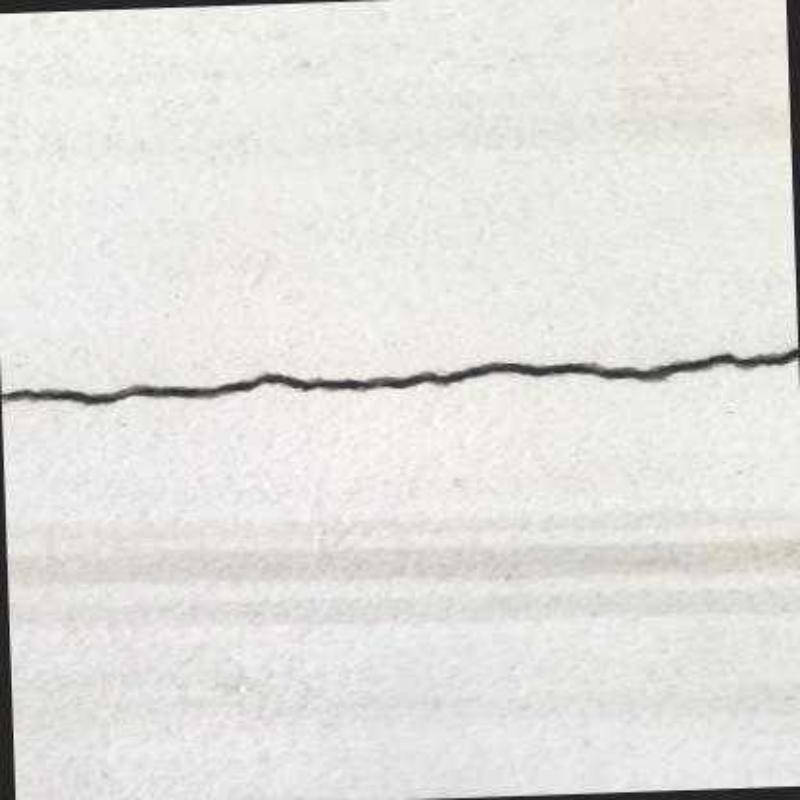pothole: (0, 348, 799, 406)
